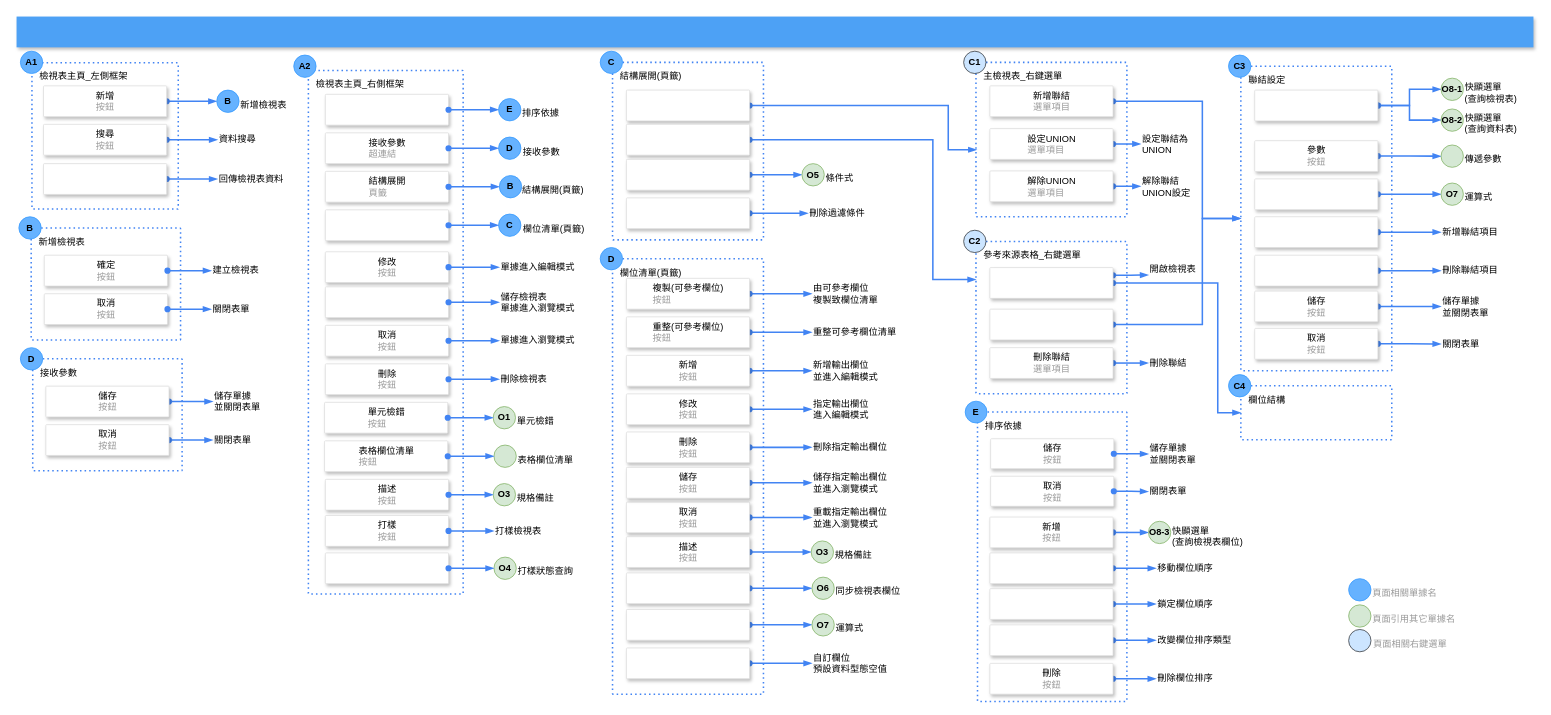
The diagram is 1551 pixels wide and 715 high, and some of its shapes have lost their labels. Each missing label, with the centre of its shape:
"DB03.檢視表" belongs at (775,32).
"O2" belongs at (504,455).
"O9" belongs at (1451,155).
"刪除(聯結項目區塊) 按鈕" belongs at (1317,271).
"同步參考欄位 按鈕" belongs at (688,589).
"存回 按鈕" belongs at (387,303).
"帶回 按鈕" belongs at (105,180).
"快顯選單(表格名稱) 按鈕" belongs at (1317,106).
"打樣狀態查詢 按鈕" belongs at (387,569).
"排序依據 按鈕" belongs at (387,110).
"新增(聯結項目區塊) 按鈕" belongs at (1317,233).
"昇冪/降冪 按鈕" belongs at (1052,641).
"樹狀結構清單_主檢視表 右鍵選單" belongs at (688,106).
"樹狀結構清單_參考來源表格 右鍵選單" belongs at (688,141).
"欄位清單 頁籤" belongs at (387,226).
"置頂/上移/下移/置尾 按鈕" belongs at (1052,569).
"自訂連結(聯結項目區塊) 按鈕" belongs at (1317,195).
"設定聯結 選單項目" belongs at (1052,325).
"資料過濾 按鈕" belongs at (688,176).
"資料過濾刪除 按鈕" belongs at (688,214).
"運算公式 按鈕" belongs at (688,626).
"鎖定 按鈕" belongs at (1052,605).
"開啟表格 選單項目" belongs at (1052,284).
"預設空值 按鈕" belongs at (688,664).
